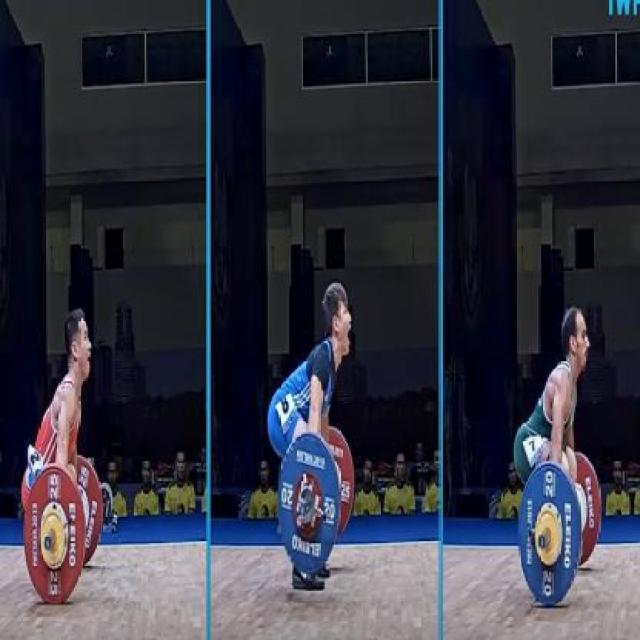barbell: (267, 428, 347, 579), (19, 460, 93, 622), (513, 457, 587, 616)
